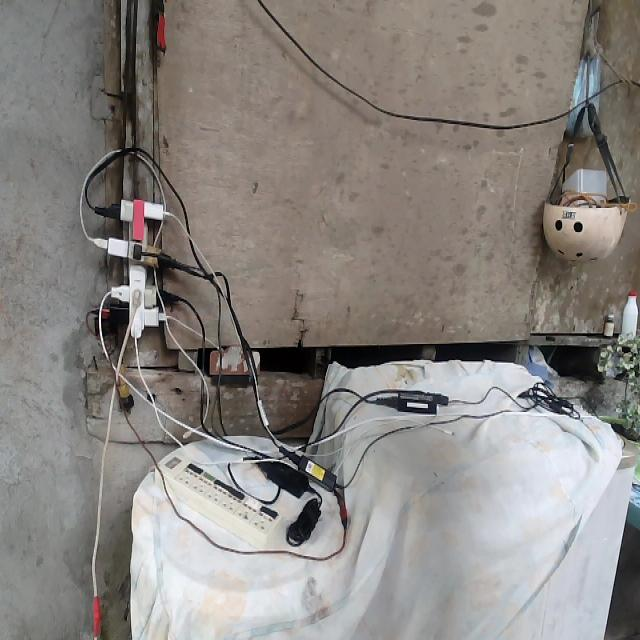-: (87, 193, 184, 340)
